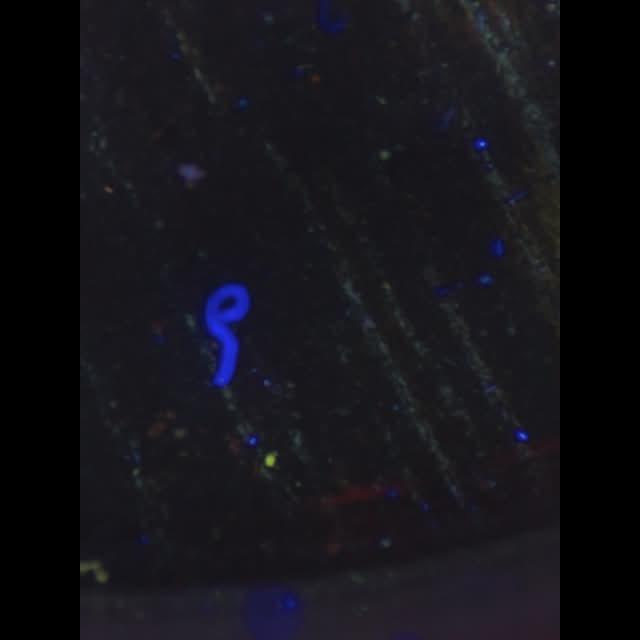microbeads: (262, 451, 278, 467)
